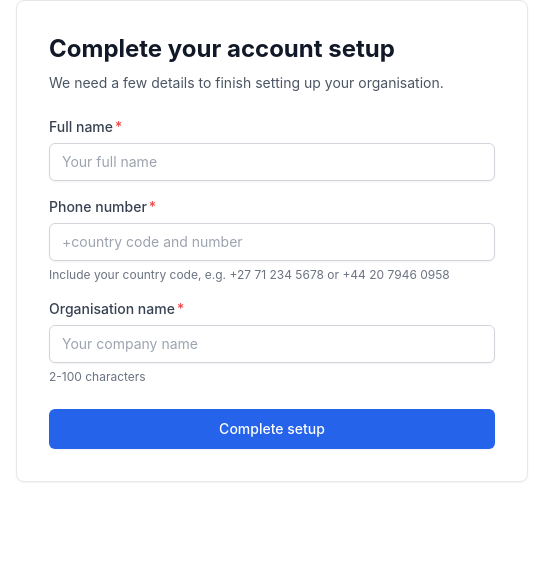
Test: CompleteProfilePage › shows a recoverable error and does NOT navigate when status stays needs_profile_completion (finding 4)
The image size is (545, 581).
Type "Owner One" into the field labelled "Full name*" at x=272, y=162, box [49,143,495,181]
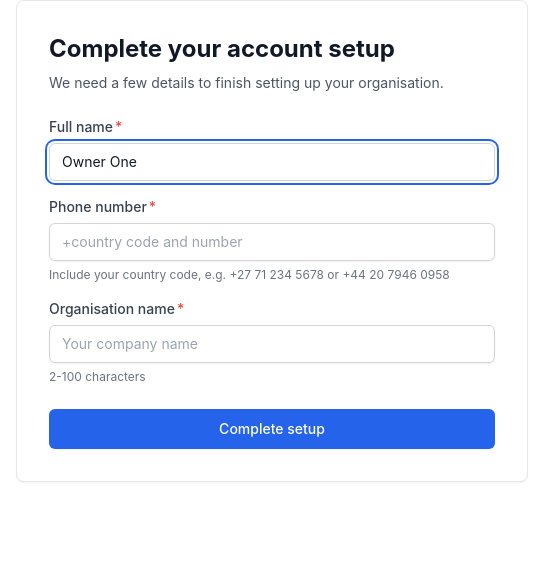
Type "+27 71 234 5678" into the field labelled "Phone number*" at x=272, y=242, box [49,223,495,261]
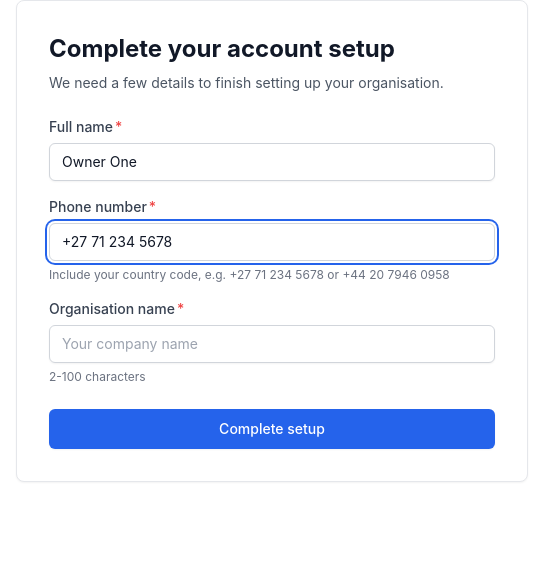
Type "Acme Trading" into the field labelled "Organisation name*" at x=272, y=344, box [49,325,495,363]
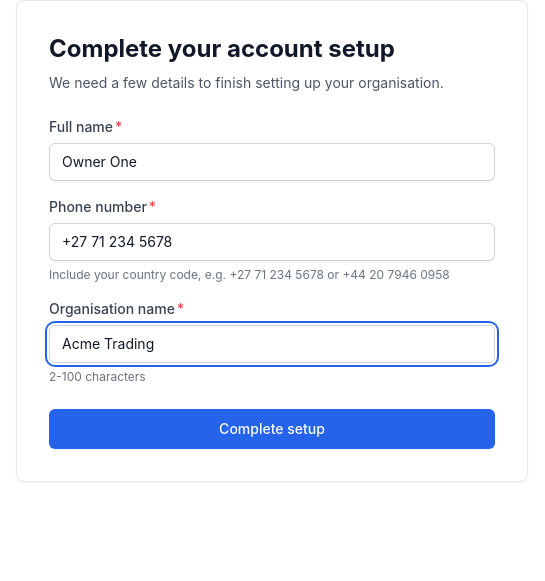
Click the button "Complete setup" at x=272, y=429, box [49,409,495,449]
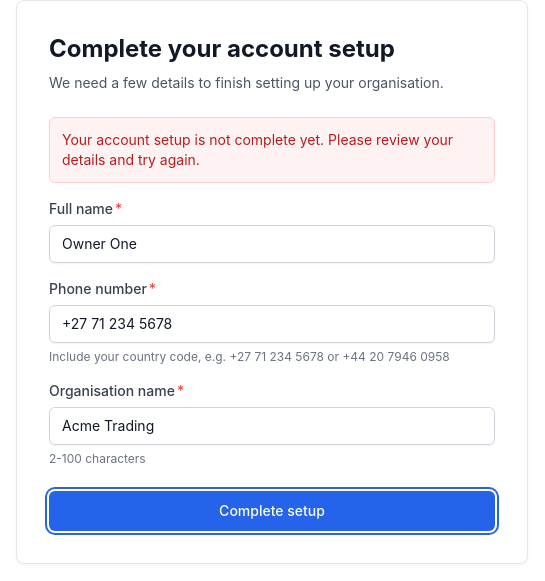
expect the message is shown: met, box [49,117,495,183]
expect the message shows "not complete yet": met, box [62,131,453,168]
